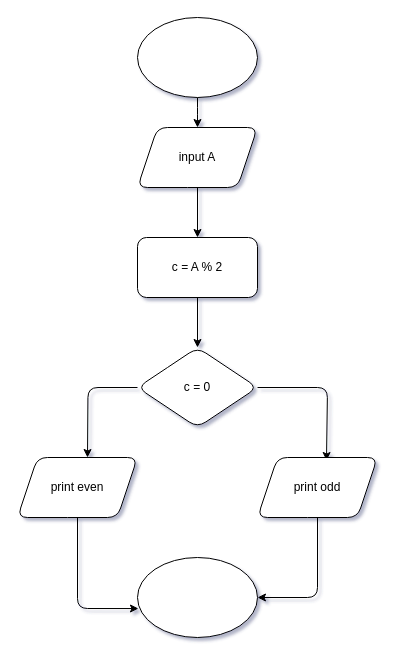
This 401x661 diagram has some shape labels left out. Each missing label, with the centre of its shape:
"End" goes at point (197, 597).
"Start" goes at point (197, 57).
